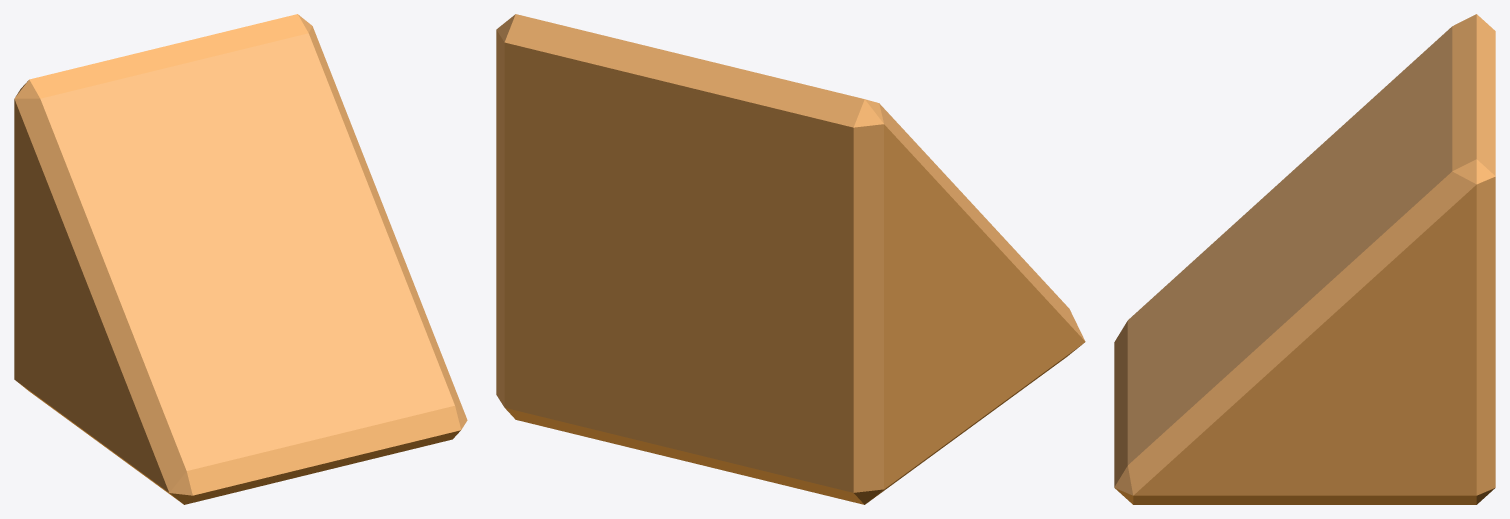
The model's file is m_kub_diagonalClay.FBX.
3 views of the same model, side by side, from view 1: azimuth 30°, elevation 25°; view 2: azimuth 150°, elevation 25°; view 3: azimuth 270°, elevation 25° (orthographic). The views are drawn at different scales.
Visible parts, largest first — view 1: m_kub_diagonalClay; view 2: m_kub_diagonalClay; view 3: m_kub_diagonalClay.
Part boxes in pixels (bbox=[...]): m_kub_diagonalClay: bbox=[14, 14, 467, 504]; m_kub_diagonalClay: bbox=[496, 14, 1085, 504]; m_kub_diagonalClay: bbox=[1114, 14, 1495, 504].
Bounding box in the file's own units: 2 × 2 × 2.
